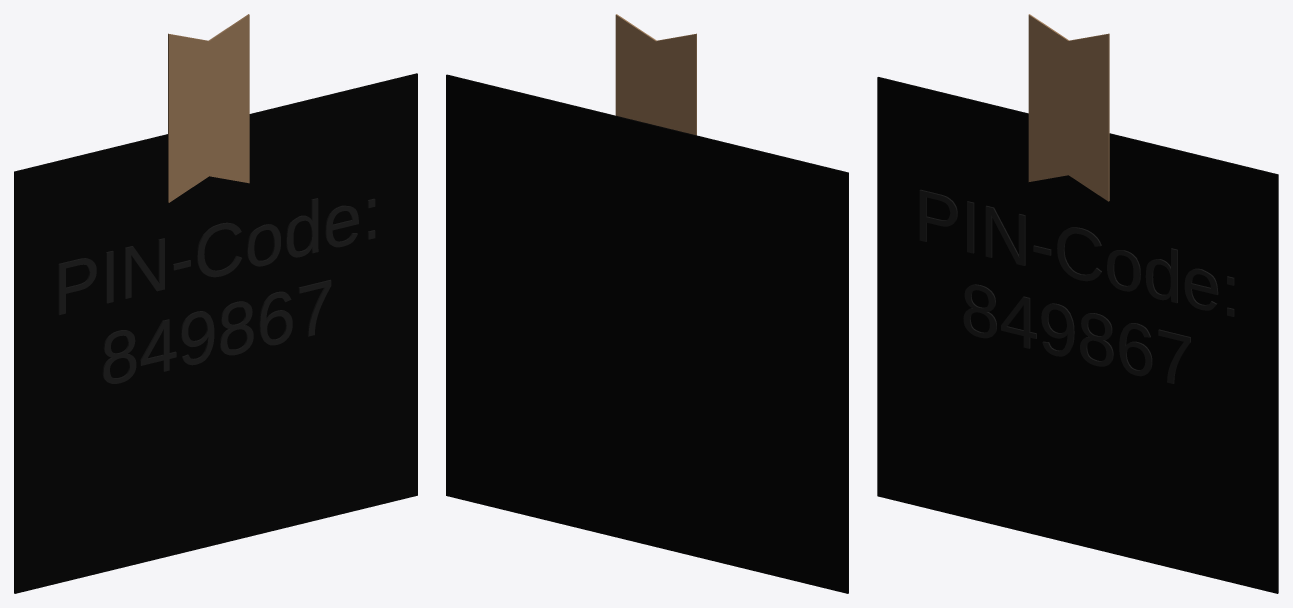
File: paper code.fbx
3 renders of one model, left to right at view 1: azimuth 30°, elevation 25°; view 2: azimuth 150°, elevation 25°; view 3: azimuth 330°, elevation 25°, orthographic.
Parts seen in each view (by area): view 1: Body1, Body2, Body3, Body15, Body14, Body16, Body17, Body7, Body18, Body5, Body13, Body10 (+2 smaller); view 2: Body1, Body2; view 3: Body1, Body2, Body3, Body14, Body15, Body16, Body18, Body17, Body7, Body5, Body13, Body10 (+2 smaller).
Boxes of the visible parts, x1,y1,x2,y2 form: Body1: [14, 73, 417, 593]; Body2: [168, 14, 249, 202]; Body3: [125, 238, 164, 298]; Body15: [220, 301, 253, 355]; Body14: [102, 330, 136, 383]; Body16: [181, 311, 214, 365]; Body17: [259, 291, 292, 345]; Body7: [286, 198, 318, 257]; Body18: [58, 258, 96, 314]; Body5: [197, 222, 241, 277]; Body13: [140, 319, 176, 371]; Body10: [325, 205, 358, 247]; Body1: [446, 74, 848, 593]; Body2: [615, 14, 696, 135]; Body1: [877, 77, 1278, 593]; Body2: [1028, 14, 1109, 201]; Body3: [985, 205, 1025, 265]; Body14: [963, 284, 996, 338]; Body15: [1080, 313, 1113, 366]; Body16: [1041, 303, 1074, 356]; Body18: [919, 189, 957, 241]; Body17: [1119, 323, 1152, 376]; Body7: [1145, 248, 1177, 303]; Body5: [1057, 227, 1101, 281]; Body13: [1001, 296, 1036, 348]; Body10: [1184, 268, 1218, 310].
Size of the model in its own units: 25 by 31 by 0.2.
